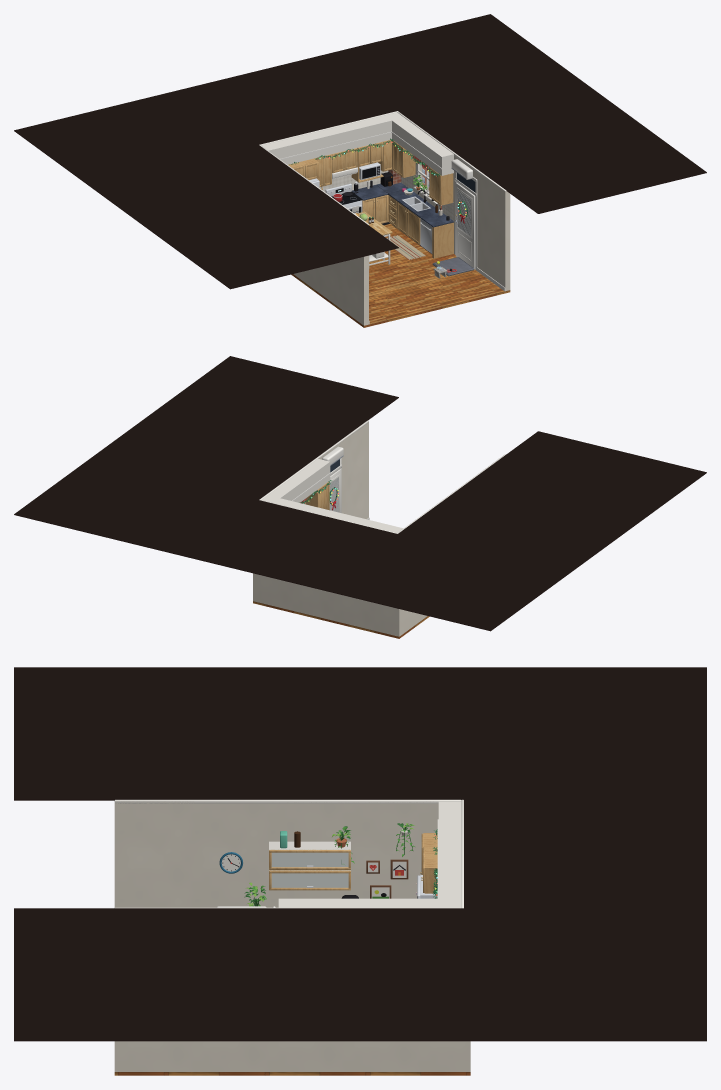
File: cuisine.glb
3 renders of one model, top to bottom at view 1: azimuth 30°, elevation 25°; view 2: azimuth 150°, elevation 25°; view 3: azimuth 270°, elevation 25°, orthographic. The views are drawn at different scales.
Visible parts, largest first — view 1: Coupe, Piece, MurEst, MurNord, Coin, Ilot, Decor, Noel; view 2: Coupe, Piece, MurEst; view 3: Coupe, Piece, MurOuest, Decor, MurNord.
Boxes of the visible parts, box(x1,y1,x2,y2) form: Coupe: box(14, 14, 706, 325); Piece: box(261, 112, 510, 327); MurEst: box(388, 141, 477, 269); MurNord: box(288, 140, 408, 225); Coin: box(432, 257, 474, 278); Ilot: box(354, 211, 392, 268); Decor: box(321, 155, 429, 259); Noel: box(289, 138, 467, 223); Coupe: box(14, 356, 706, 631); Piece: box(253, 440, 429, 638); MurEst: box(305, 446, 343, 512); Coupe: box(14, 667, 706, 1071); Piece: box(114, 801, 470, 1075); MurOuest: box(244, 823, 414, 907); Decor: box(219, 852, 408, 898); MurNord: box(420, 833, 437, 898).
Bounding box in the file's own units: 14 × 2.88 × 11.
Materials: 80 (17 with a texture image).
